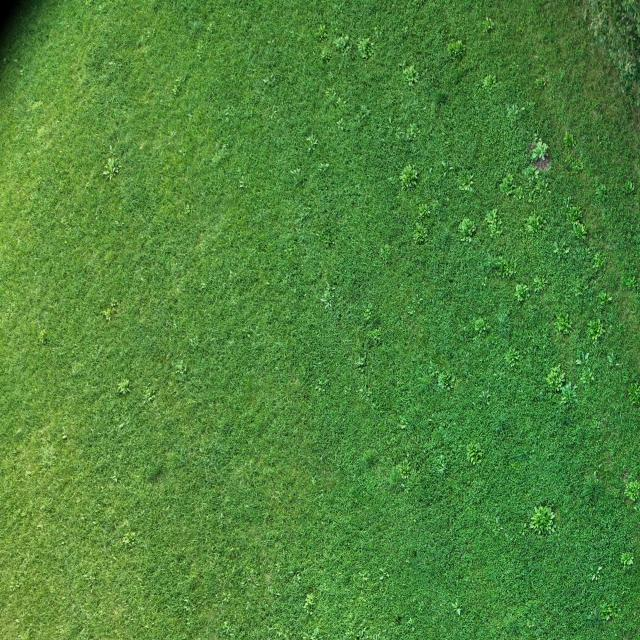rumex: (381, 428, 425, 489), (346, 103, 372, 136), (522, 165, 550, 193), (353, 351, 376, 385), (410, 213, 432, 245), (183, 16, 208, 44), (544, 364, 568, 392), (524, 211, 546, 237), (599, 597, 619, 623), (586, 316, 606, 341), (565, 204, 585, 228), (504, 346, 524, 370), (553, 311, 573, 335), (356, 36, 376, 60), (457, 216, 477, 240), (577, 365, 596, 390), (210, 146, 230, 167), (595, 287, 615, 308), (465, 443, 484, 465), (361, 305, 378, 329), (426, 358, 443, 382), (260, 68, 280, 88), (498, 260, 518, 280), (514, 282, 532, 304), (560, 382, 578, 404), (623, 479, 640, 502), (531, 275, 550, 295), (553, 240, 571, 261), (432, 88, 450, 109), (622, 270, 639, 292), (312, 376, 330, 396), (590, 251, 606, 273), (480, 73, 498, 92), (102, 302, 119, 322), (447, 38, 464, 58), (318, 289, 334, 310), (170, 75, 186, 96), (505, 102, 524, 119), (497, 311, 511, 334), (416, 204, 432, 224), (404, 122, 420, 142), (563, 130, 578, 151), (499, 172, 515, 191), (572, 221, 588, 240), (484, 210, 500, 228), (448, 598, 462, 618), (173, 359, 188, 377), (473, 316, 488, 334), (35, 123, 53, 138), (116, 377, 131, 395), (569, 159, 585, 175), (142, 27, 157, 44), (121, 529, 136, 546), (438, 372, 452, 390), (368, 327, 382, 345), (378, 243, 392, 261), (142, 386, 156, 404), (620, 552, 634, 570), (481, 16, 495, 34), (323, 88, 338, 104), (140, 88, 156, 103), (320, 43, 334, 60), (594, 184, 607, 202), (304, 134, 318, 150), (8, 578, 22, 593), (631, 382, 640, 405), (237, 173, 249, 190), (534, 76, 548, 90), (304, 592, 316, 608), (606, 352, 618, 368), (317, 23, 328, 40), (333, 36, 346, 50), (316, 162, 330, 175), (354, 356, 366, 371), (39, 328, 50, 344), (290, 166, 302, 179), (626, 178, 636, 193), (342, 42, 352, 56), (336, 118, 346, 132), (624, 61, 634, 75), (184, 202, 193, 215), (465, 177, 474, 190), (108, 157, 116, 171), (359, 104, 369, 115), (357, 386, 367, 396), (590, 572, 599, 582), (546, 521, 554, 532), (395, 614, 403, 625), (172, 85, 180, 95), (378, 572, 386, 582), (582, 351, 590, 361), (400, 421, 408, 430), (117, 422, 126, 429), (534, 506, 540, 516), (170, 130, 177, 138), (102, 170, 110, 177), (111, 301, 117, 310), (576, 358, 582, 366), (139, 142, 145, 150), (224, 110, 230, 117), (106, 314, 111, 322), (114, 168, 120, 174), (239, 181, 244, 188), (598, 565, 603, 572), (62, 433, 67, 440), (178, 149, 183, 155), (201, 281, 206, 287), (109, 145, 114, 151), (109, 62, 115, 66)
